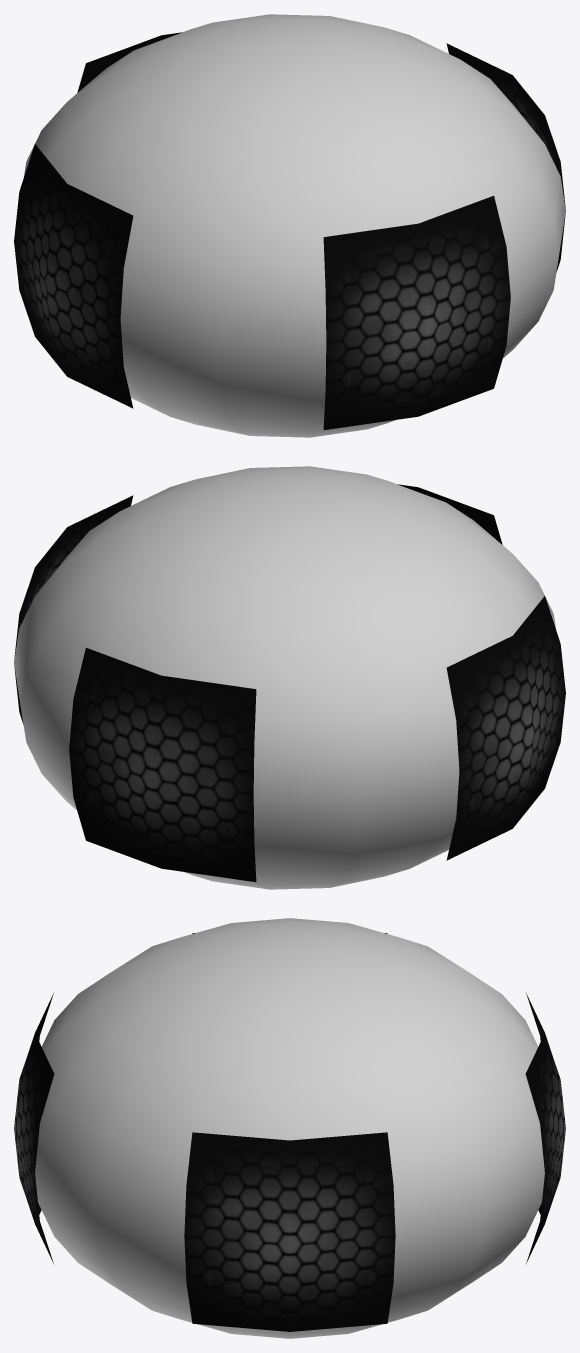
Rendered from force_field.fbx.
3 views of the same model, one above another, from view 1: azimuth 30°, elevation 25°; view 2: azimuth 150°, elevation 25°; view 3: azimuth 270°, elevation 25° (orthographic).
Visible parts, largest first — view 1: ForceField, ForceField.001; view 2: ForceField, ForceField.001; view 3: ForceField, ForceField.001.
Part boxes in pixels (x1=…): ForceField: x1=23, y1=14, x2=565, y2=437; ForceField.001: x1=14, y1=32, x2=565, y2=430; ForceField: x1=14, y1=466, x2=556, y2=889; ForceField.001: x1=14, y1=484, x2=565, y2=882; ForceField: x1=35, y1=918, x2=544, y2=1338; ForceField.001: x1=14, y1=933, x2=565, y2=1331.
Bounding box in the file's own units: 1360 × 956 × 1360.
